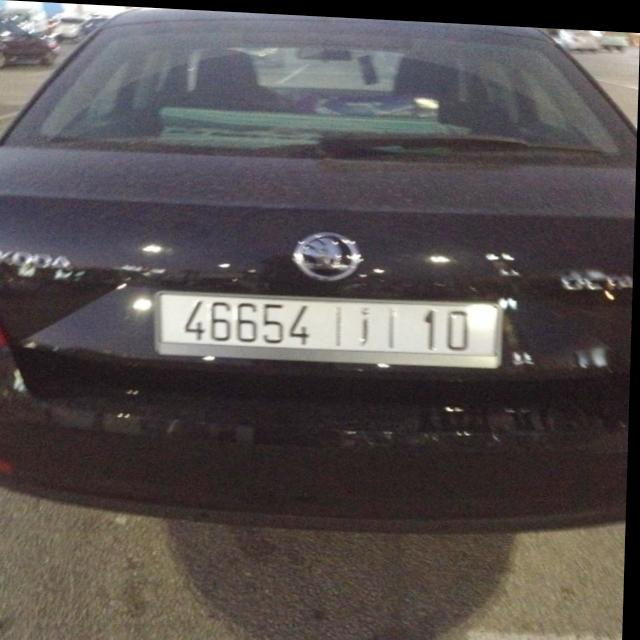License-Plate: (158, 291, 503, 363)
